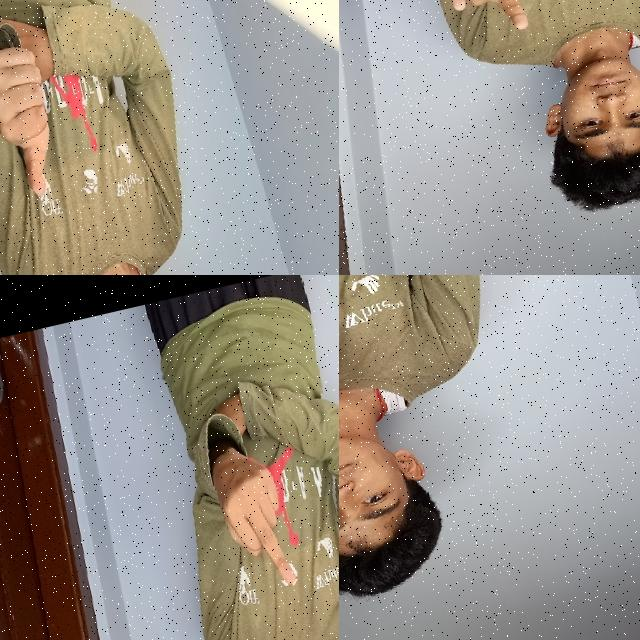Chin Flick: (339, 320, 458, 610)
Corna: (423, 0, 578, 52)
Middle Finger: (199, 438, 308, 606)
Thumbs Up: (0, 35, 82, 211)
